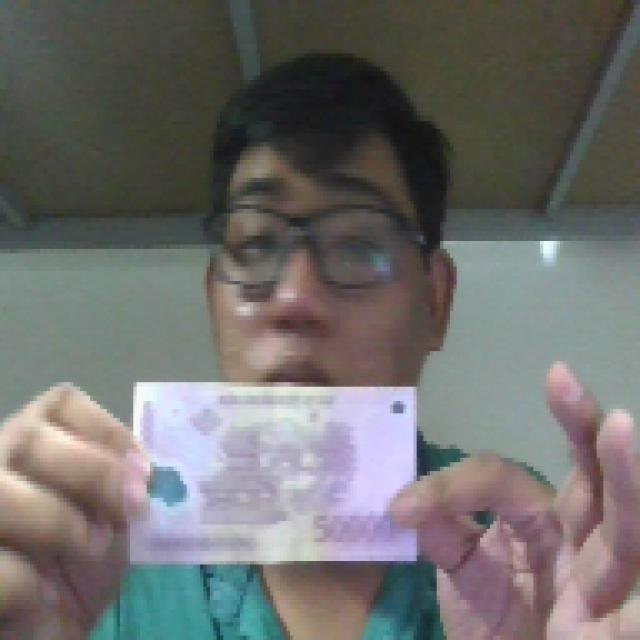50 000 VND: (124, 373, 424, 569)
